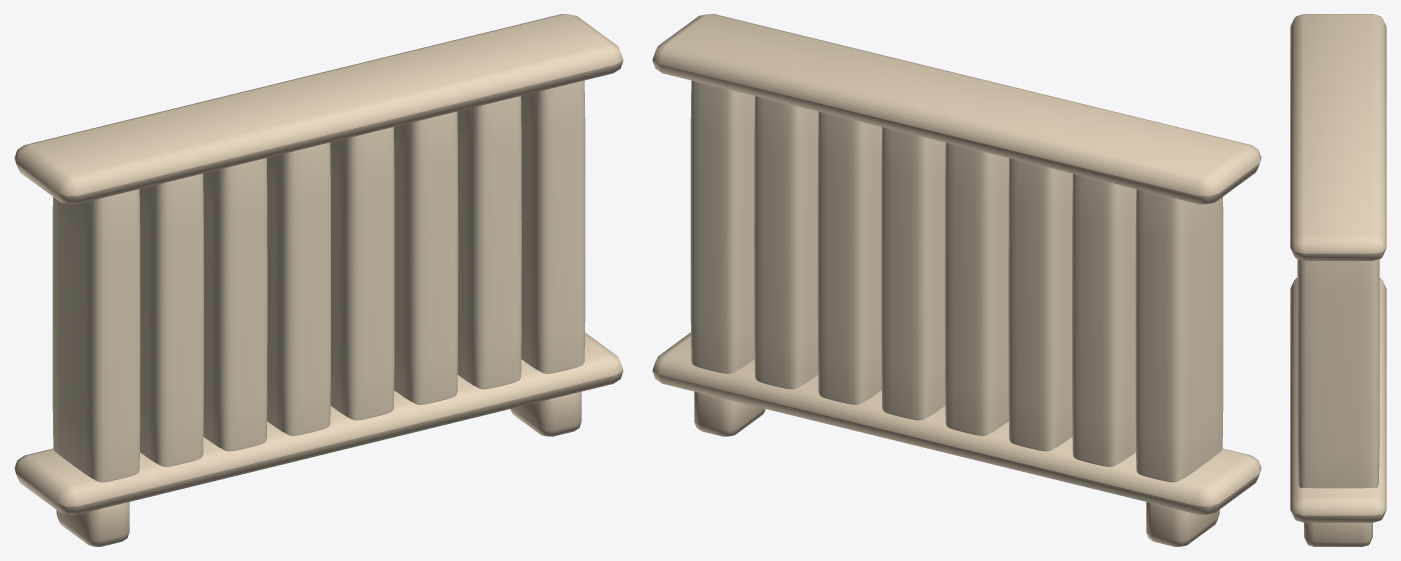
The model's file is radiator_a.glb.
3 renders of one model, left to right at view 1: azimuth 30°, elevation 25°; view 2: azimuth 150°, elevation 25°; view 3: azimuth 270°, elevation 25°, orthographic. The views are drawn at different scales.
Parts seen in each view (by area): view 1: body; view 2: body; view 3: body.
Boxes of the visible parts, x1,y1,x2,y2 form: body: (14,14,623,546); body: (652,14,1261,546); body: (1290,14,1386,546).
Bounding box in the file's own units: 0.8 × 0.52 × 0.14.
